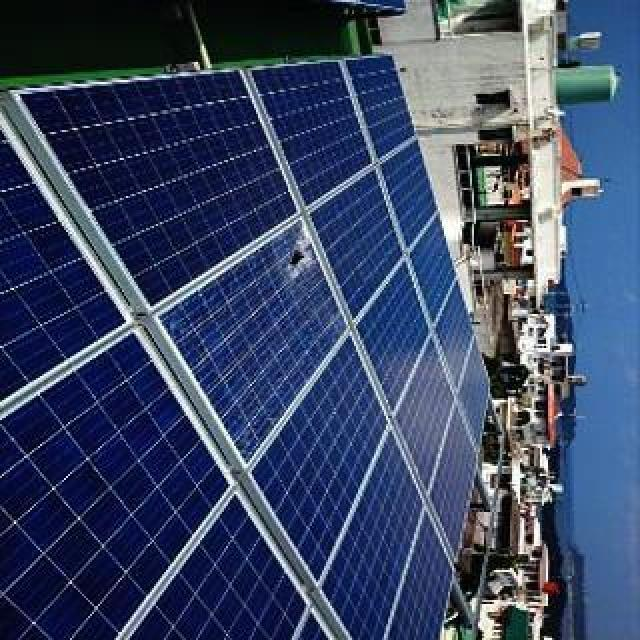cracked: (152, 216, 352, 462)
